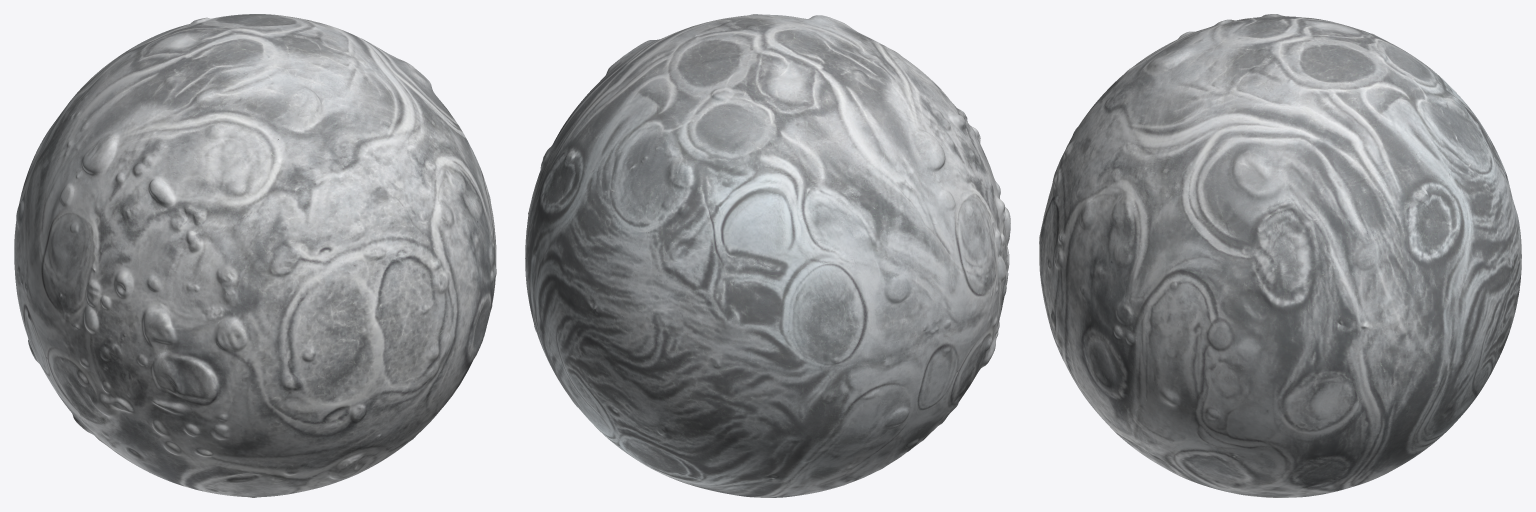
Rendered from mercury.glb.
3 renders of one model, left to right at view 1: azimuth 30°, elevation 25°; view 2: azimuth 150°, elevation 25°; view 3: azimuth 270°, elevation 25°, orthographic.
Bounding box in the file's own units: 1.9 × 1.9 × 1.9.
Materials: 1 (1 with a texture image).
